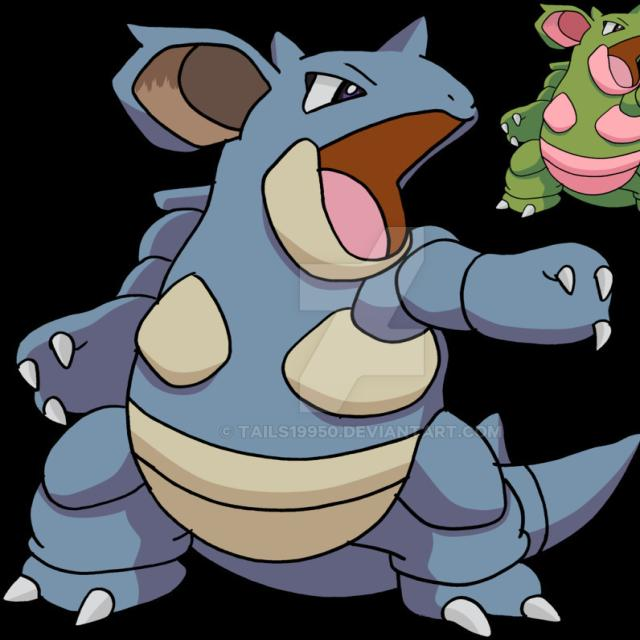Nidoqueen: (24, 25, 504, 628), (501, 3, 640, 218)
